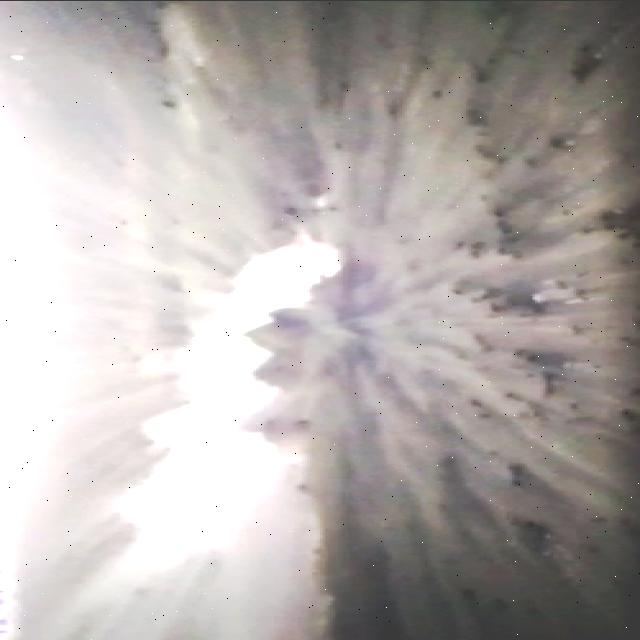asap: (98, 238, 362, 562)
